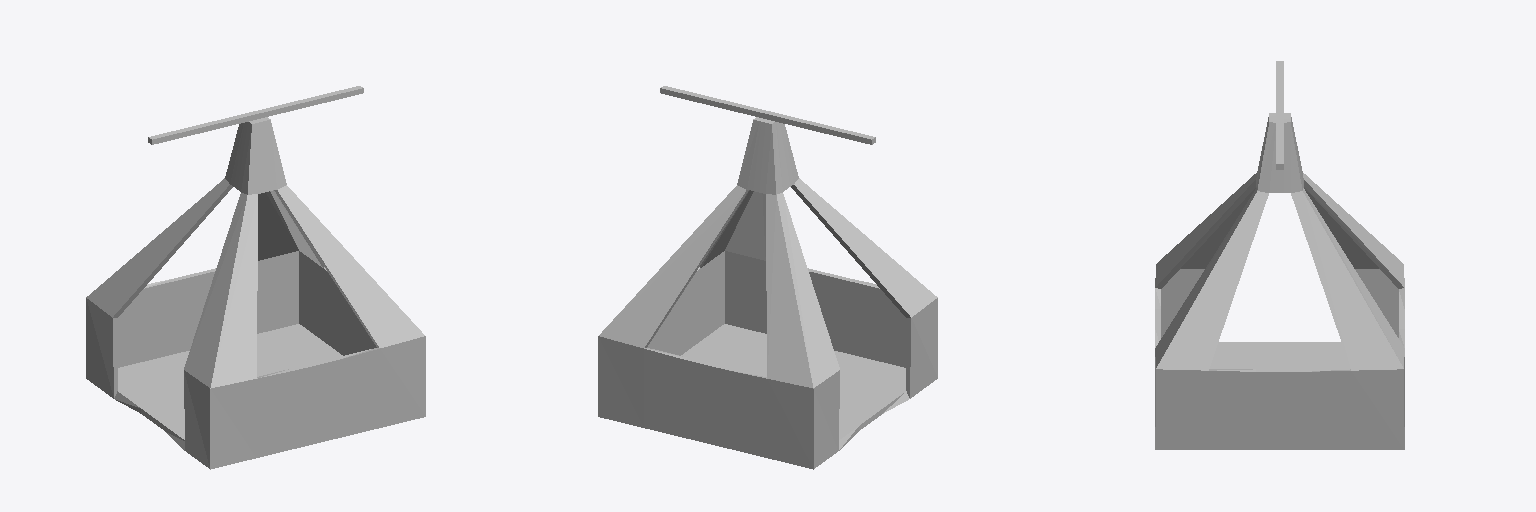
The model's file is FerrisWheelCart.obj.
3 views of the same model, side by side, from view 1: azimuth 30°, elevation 25°; view 2: azimuth 150°, elevation 25°; view 3: azimuth 270°, elevation 25° (orthographic).
Visible parts, largest first — view 1: Cube; view 2: Cube; view 3: Cube.
Part boxes in pixels (x1,y1,x2,y2): Cube: (86,86,425,469); Cube: (598,86,937,469); Cube: (1155,61,1404,449).
Bounding box in the file's own units: 2.1 × 2.67 × 2.1.